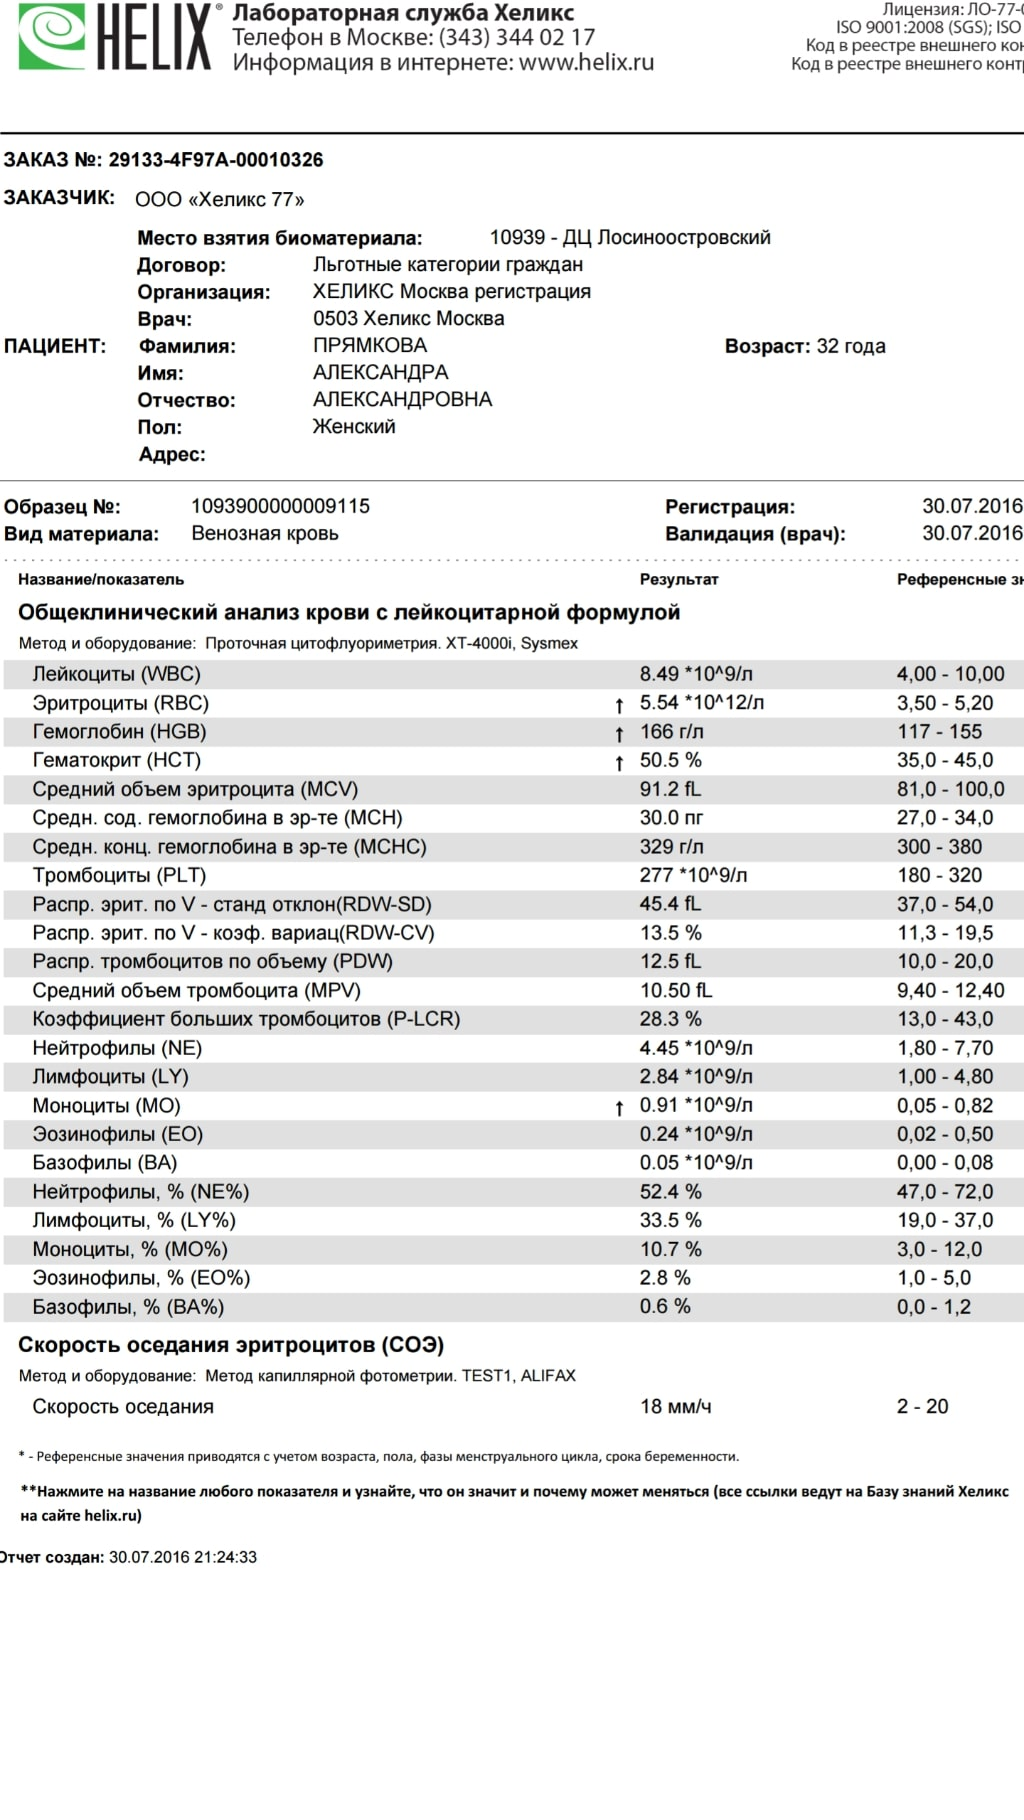column: (31, 662, 461, 1317), (638, 662, 765, 1317), (896, 662, 1005, 1317), (33, 1397, 214, 1415), (18, 571, 184, 587), (896, 571, 1024, 587), (640, 571, 719, 587), (640, 1397, 711, 1415), (896, 1397, 949, 1415)
